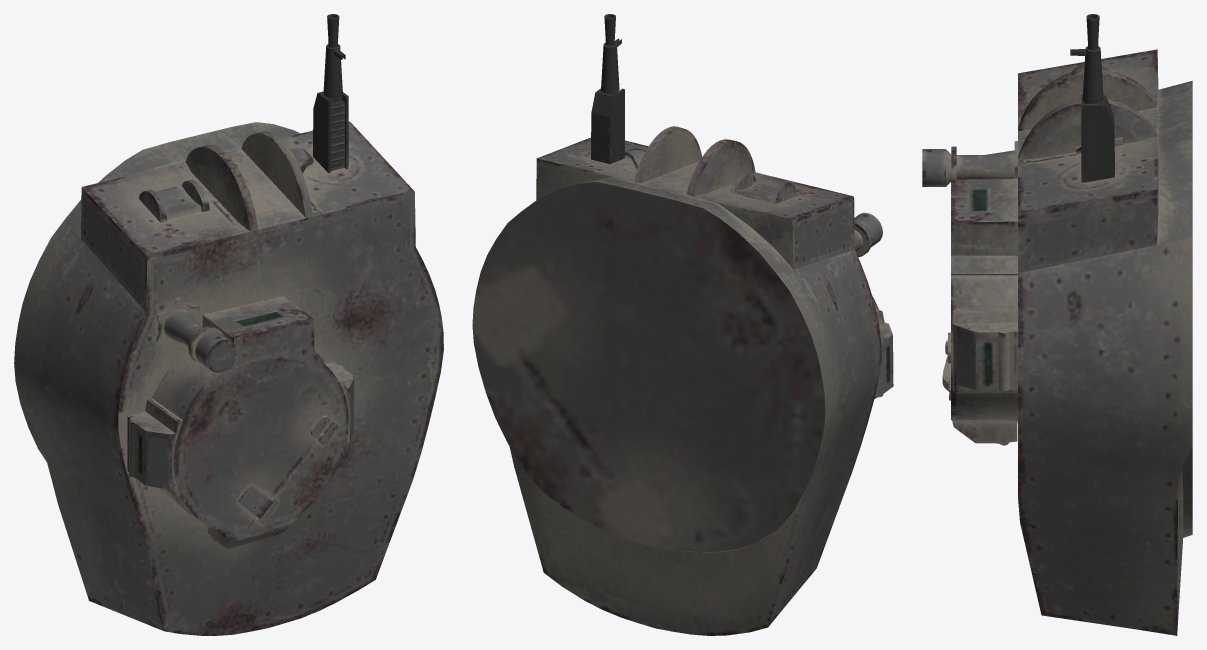
File: Turret_01.glb
3 renders of one model, left to right at view 1: azimuth 30°, elevation 25°; view 2: azimuth 150°, elevation 25°; view 3: azimuth 270°, elevation 25°, orthographic. The views are drawn at different scales.
Visible parts, largest first — view 1: set_0_group_0; view 2: set_0_group_0; view 3: set_0_group_0.
Boxes of the visible parts, left/top/right/bottom form: set_0_group_0: left=14, top=14, right=443, bottom=635; set_0_group_0: left=472, top=14, right=893, bottom=635; set_0_group_0: left=922, top=14, right=1192, bottom=635.
Size of the model in its own units: 1.4 by 2.14 by 0.8271.
1 material, 1 textured.
